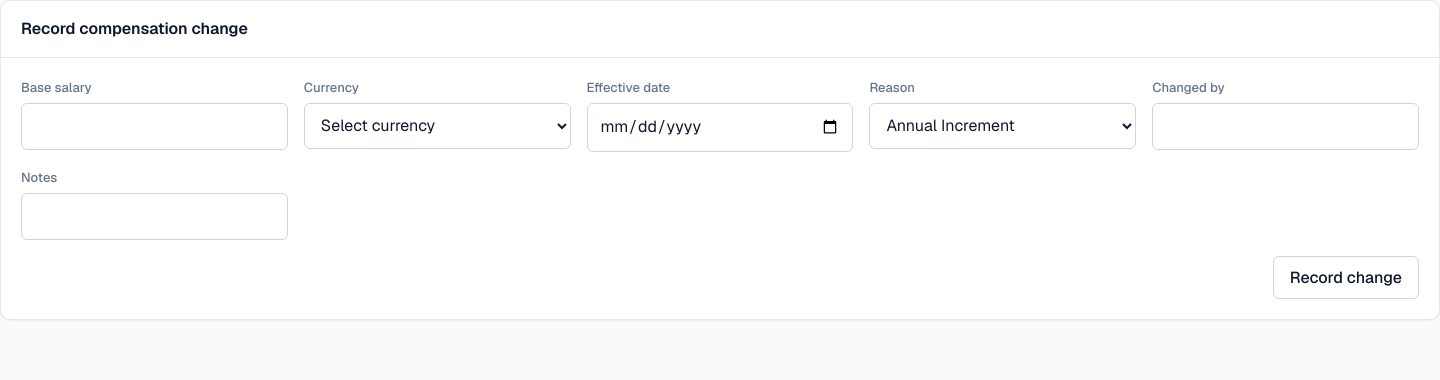
Test: RecordCompensationChangeForm › shows reason validation errors inline
In the number field labelled "Base salary": x=154, y=126 [21, 103, 288, 150], type "140000"
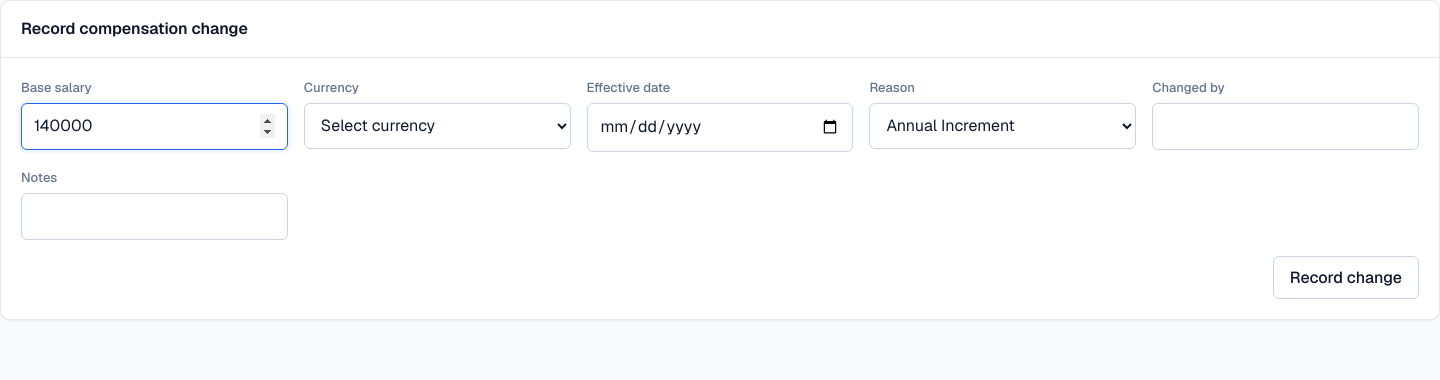
Select "USD" in the dropdown labelled "Currency": x=437, y=126 [304, 103, 571, 149]
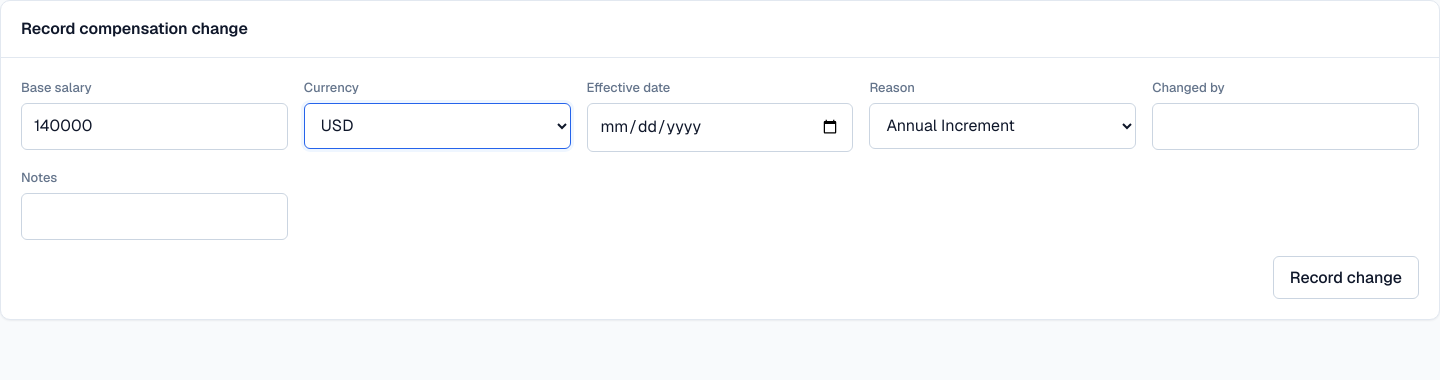
In the date field labelled "Effective date": x=720, y=128 [587, 103, 853, 152], type "2026-06-01"
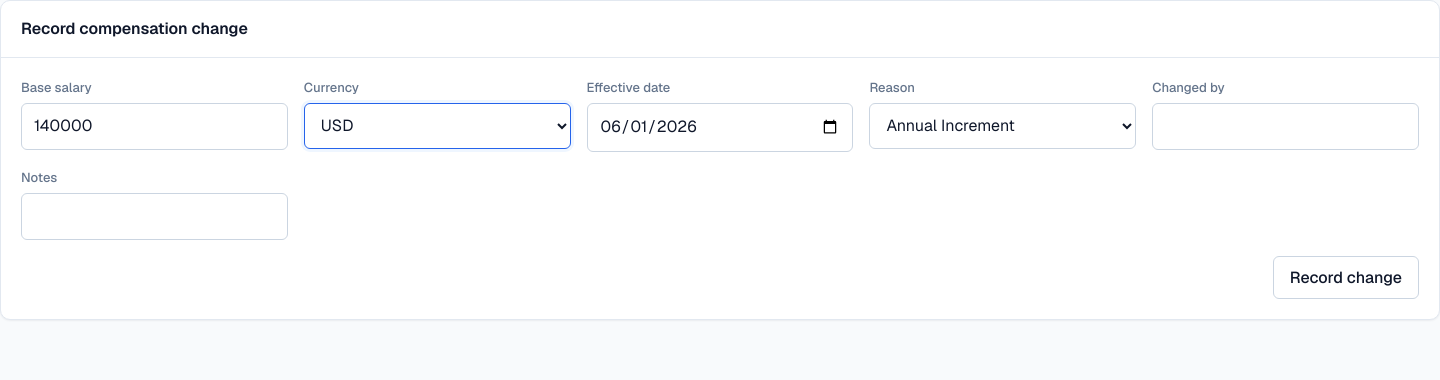
Select "Annual Increment" in the dropdown labelled "Reason": x=1003, y=126 [869, 103, 1136, 149]
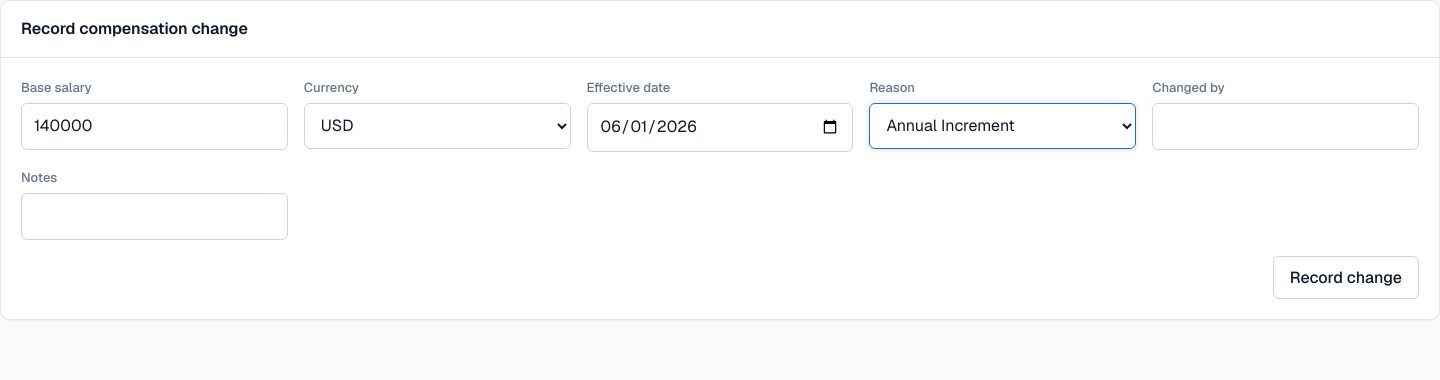
In the field labelled "Changed by": x=1286, y=126 [1152, 103, 1419, 150], type "HR Admin"
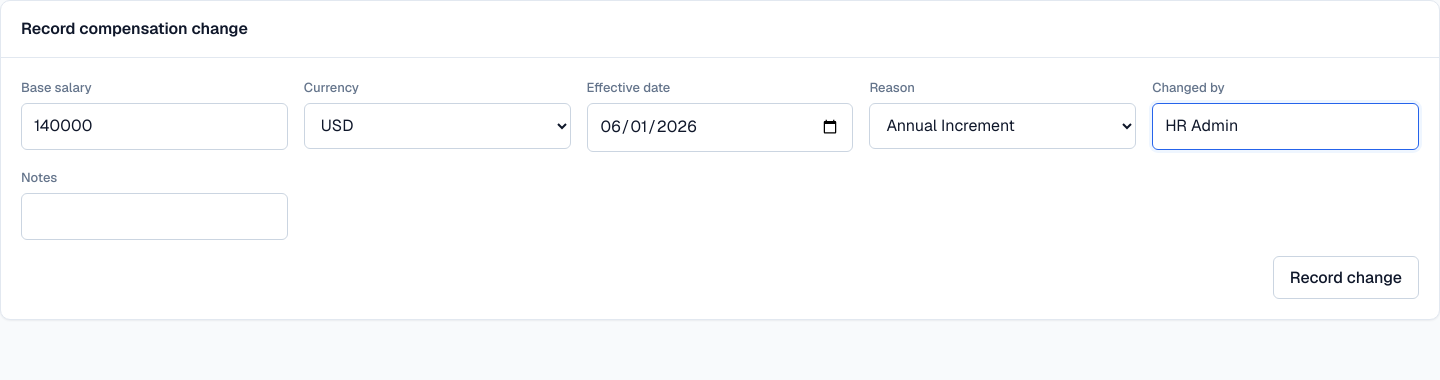
Select "" in the dropdown labelled "Reason": x=1003, y=126 [869, 103, 1136, 149]
Submit the form, box [21, 78, 1419, 299]
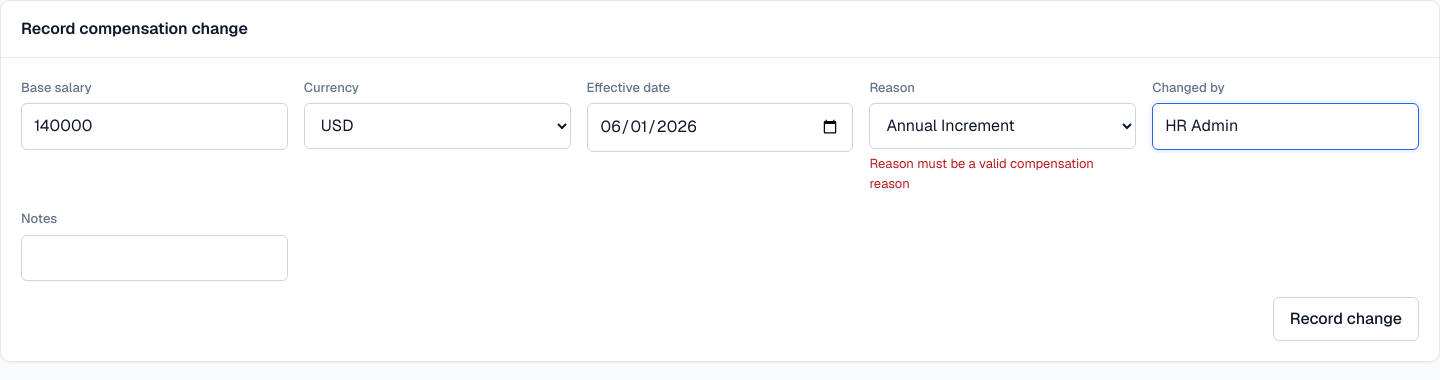
Expected: the text "Reason must be a valid compensation reason" is shown, [869, 156, 1094, 192]
